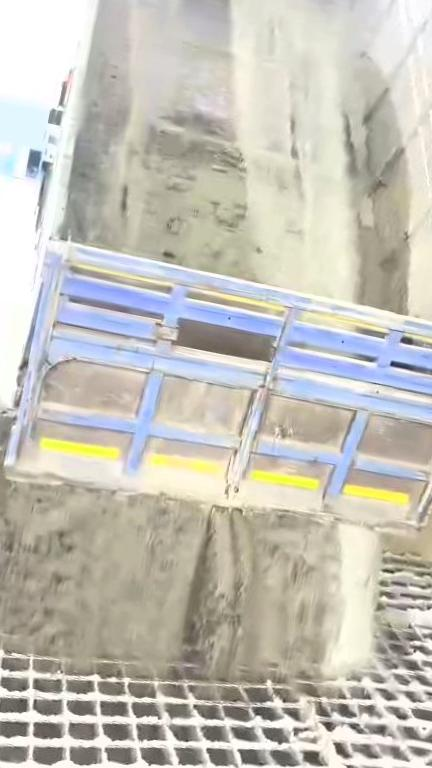sand: (60, 0, 407, 311), (0, 483, 379, 680), (385, 399, 432, 571), (316, 726, 390, 768), (378, 604, 432, 639), (0, 379, 11, 525)
